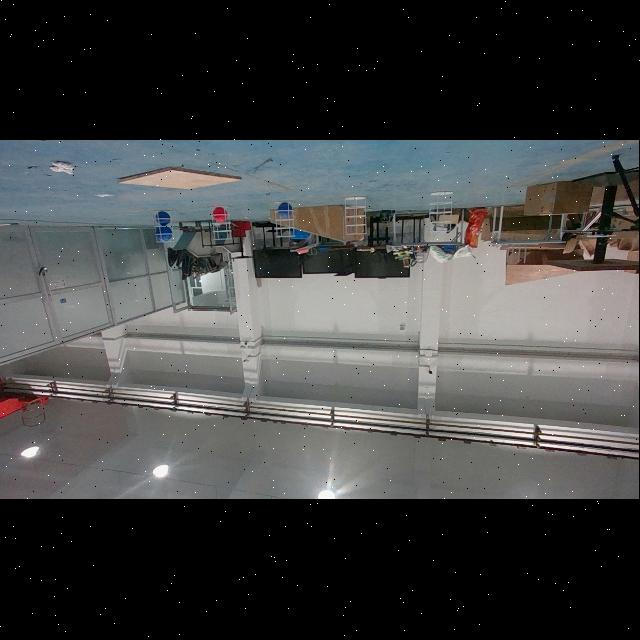B: (155, 228, 175, 242), (276, 204, 294, 218), (155, 212, 173, 225)
R: (212, 208, 230, 222)
S: (426, 190, 456, 233), (342, 195, 370, 238), (270, 200, 298, 240), (208, 205, 235, 243), (150, 209, 178, 245)
